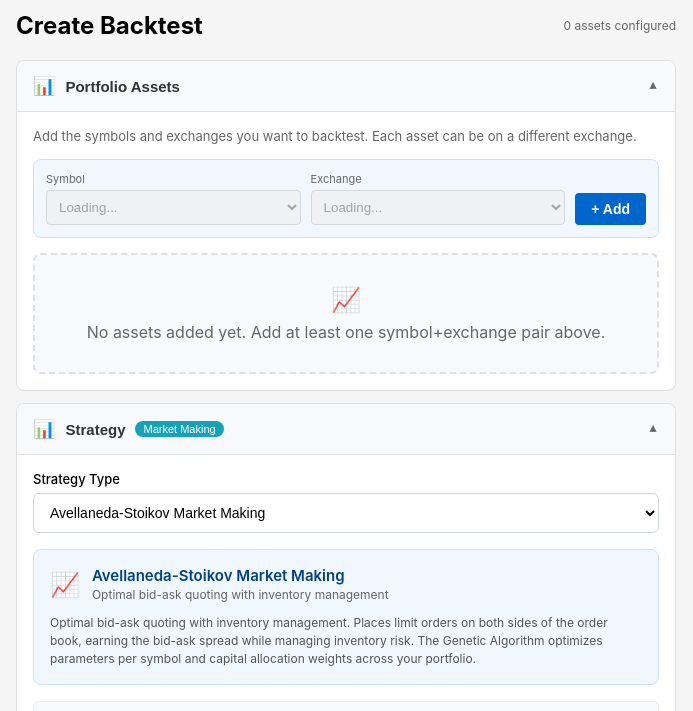
Test: BacktestForm › can remove assets from portfolio
Expected: the text "Portfolio Assets" is shown, [66,78,180,94]
// Add an asset
Click the button "+ Add" at (611, 209), box [575,193,646,225]
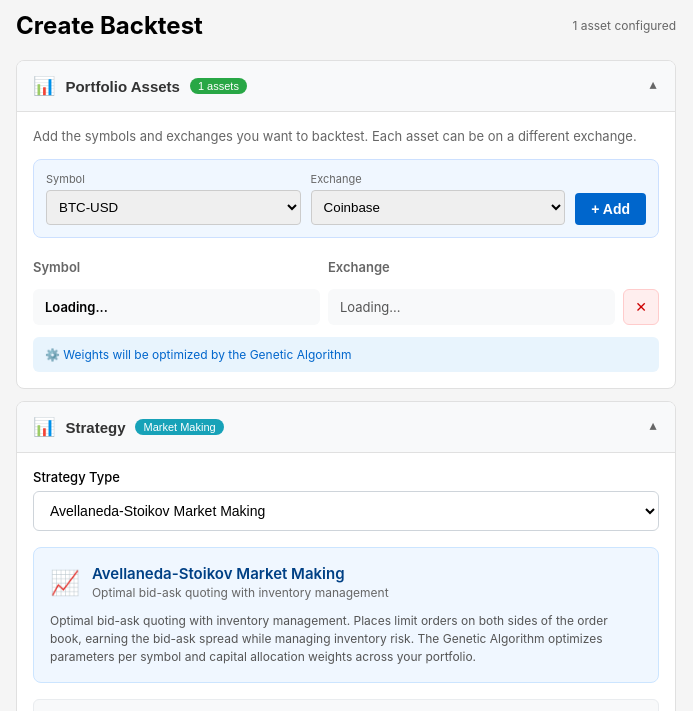
Now the text "1 asset configured" is shown, box [572,18,676,33]
// Remove the asset using title attribute
Click the button titled "Remove" at (641, 307), box [623,289,659,325]
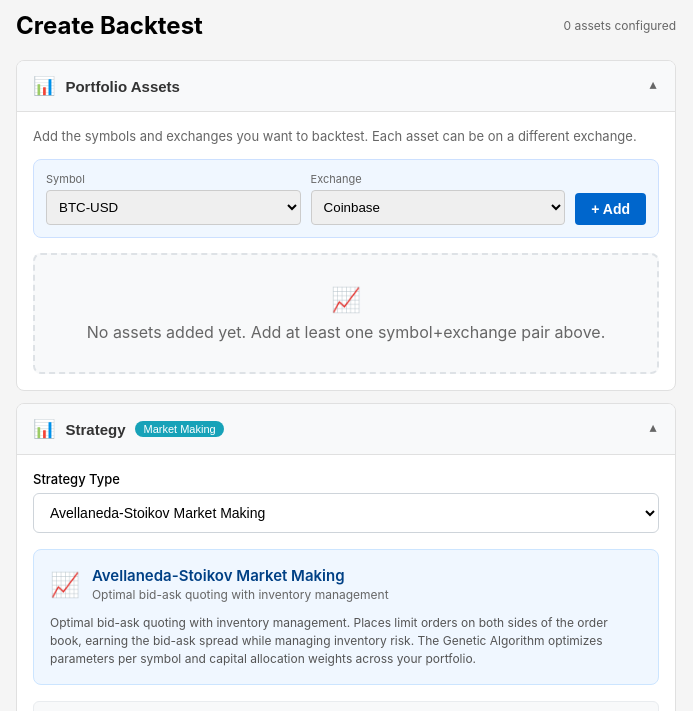
Now the text "No assets added yet" is shown, box [87,322,605,342]
